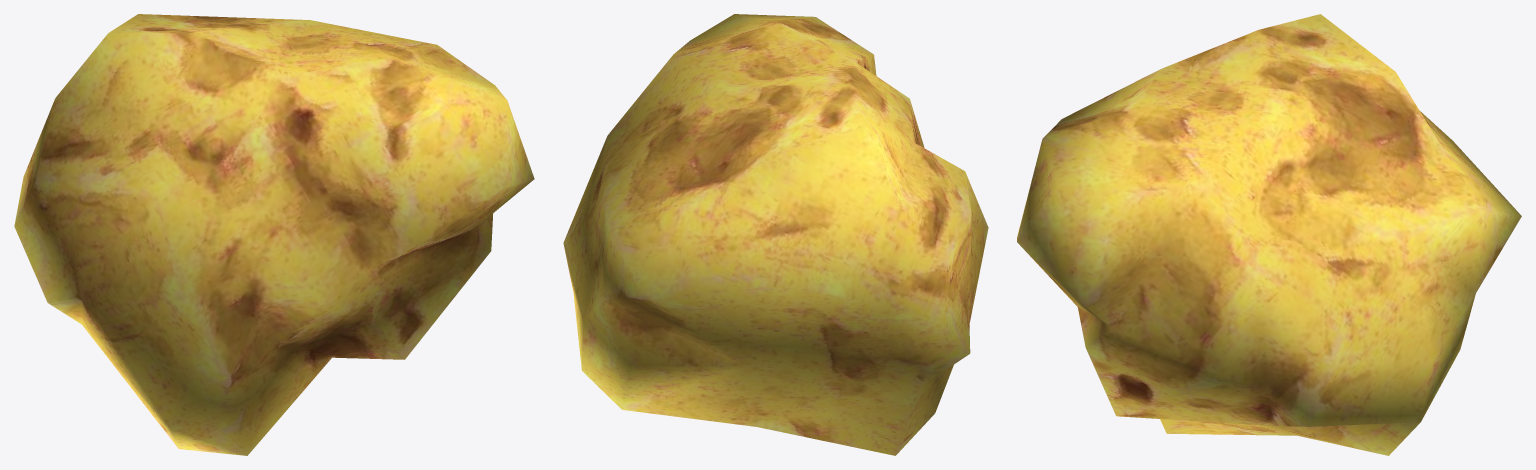
Rendered from resource-base.glb.
3 views of the same model, side by side, from view 1: azimuth 30°, elevation 25°; view 2: azimuth 150°, elevation 25°; view 3: azimuth 270°, elevation 25° (orthographic). The views are drawn at different scales.
Size of the model in its own units: 0.5357 by 0.5027 by 0.5747.
Materials: 1 (1 with a texture image).
